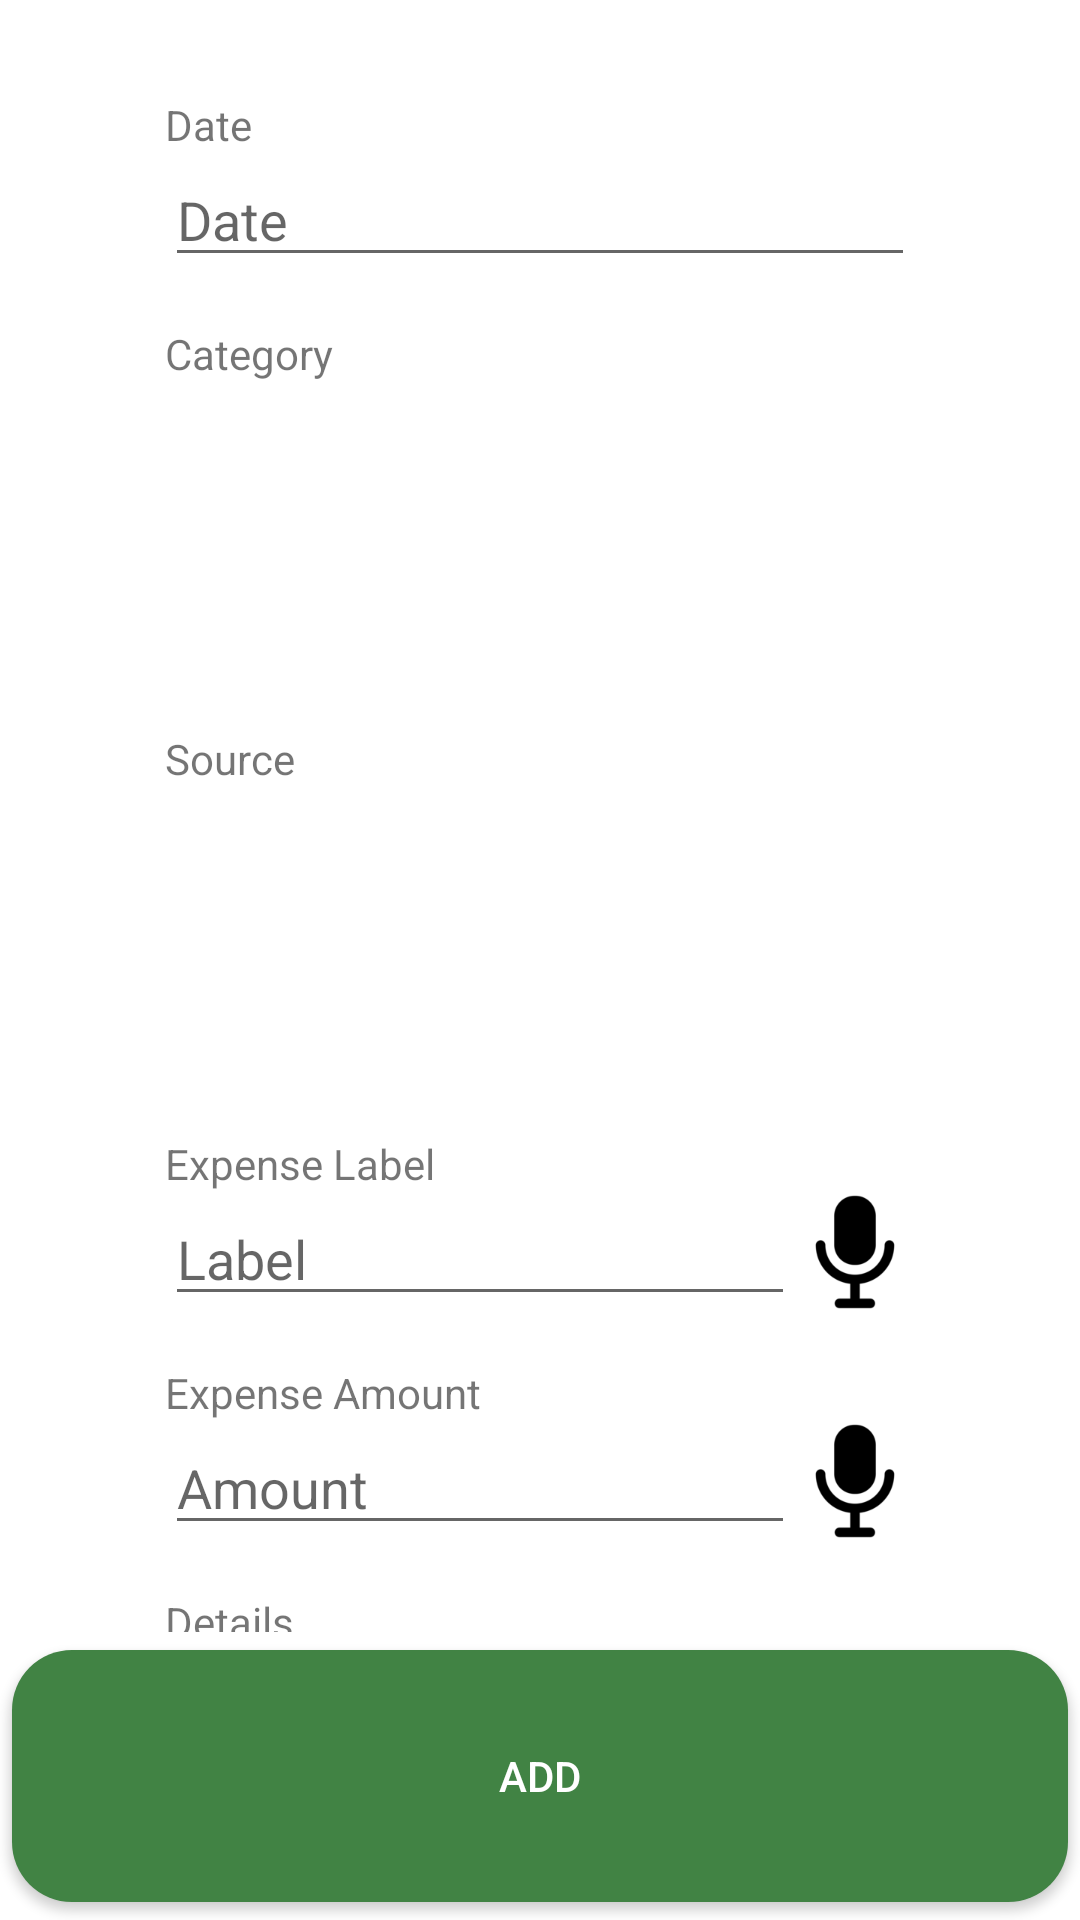

Screen size 1080 × 1920. Icon name, then its box in pixels as (x1,y1,x2,y2):
mic: (815,1195,895,1309), (815,1424,895,1538)
